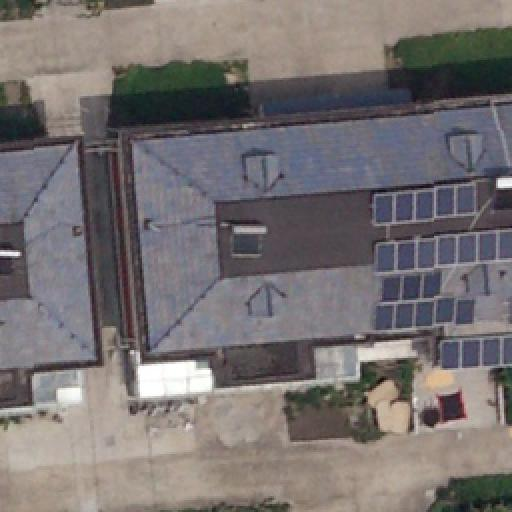solar-panel: (374, 235, 512, 277), (370, 182, 481, 228), (367, 300, 500, 329), (372, 266, 459, 300), (434, 337, 512, 374)
